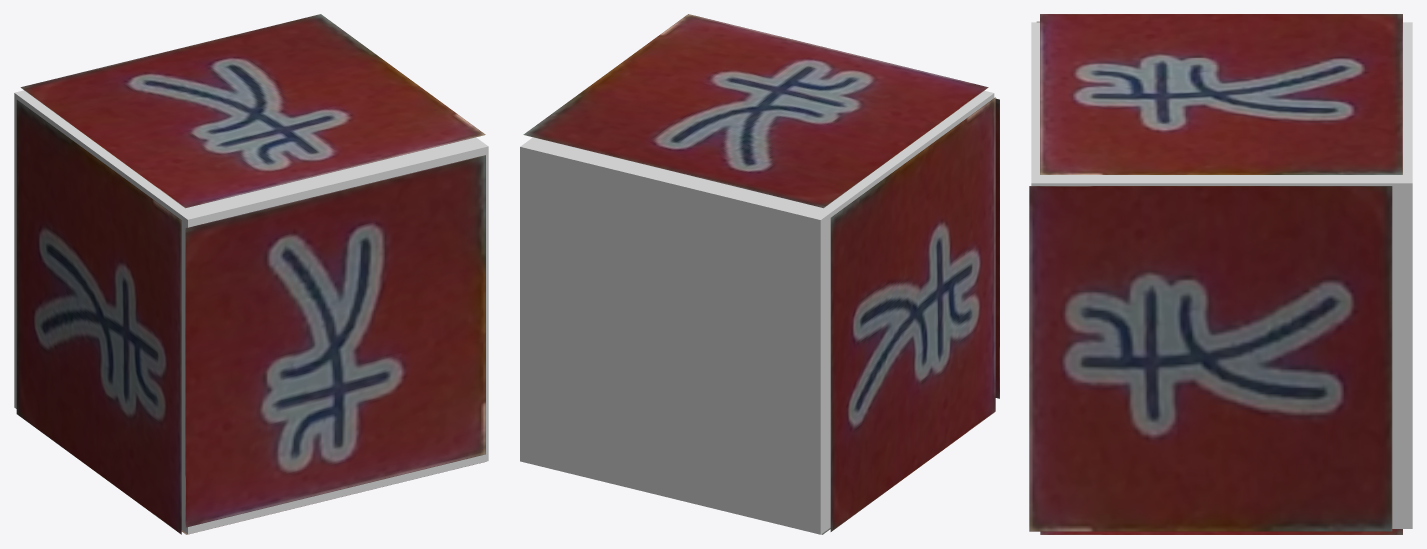
The picture shows the model from 3 angles, left to right: view 1: azimuth 30°, elevation 25°; view 2: azimuth 150°, elevation 25°; view 3: azimuth 270°, elevation 25°; orthographic projection. The views are drawn at different scales.
Parts seen in each view (by area): view 1: R2.001, R2.002, R2, Link36; view 2: Link36, R2.002, R2, R2.001; view 3: R2.004, R2, Link36, R2.003.
Part boxes in pixels (box(x1,y1,x2,y2)): R2.001: box(185, 155, 485, 527); R2.002: box(16, 100, 181, 534); R2: box(20, 14, 485, 208); Link36: box(14, 90, 488, 534); Link36: box(520, 90, 994, 534); R2.002: box(830, 97, 995, 531); R2: box(523, 14, 988, 208); R2.001: box(995, 98, 999, 398); R2.004: box(1029, 186, 1392, 531); R2: box(1040, 14, 1402, 174); Link36: box(1031, 22, 1412, 528); R2.003: box(1040, 529, 1402, 534).
Size of the model in its own units: 0.3578 by 0.3529 by 0.3637.
Materials: 1 (1 with a texture image).
